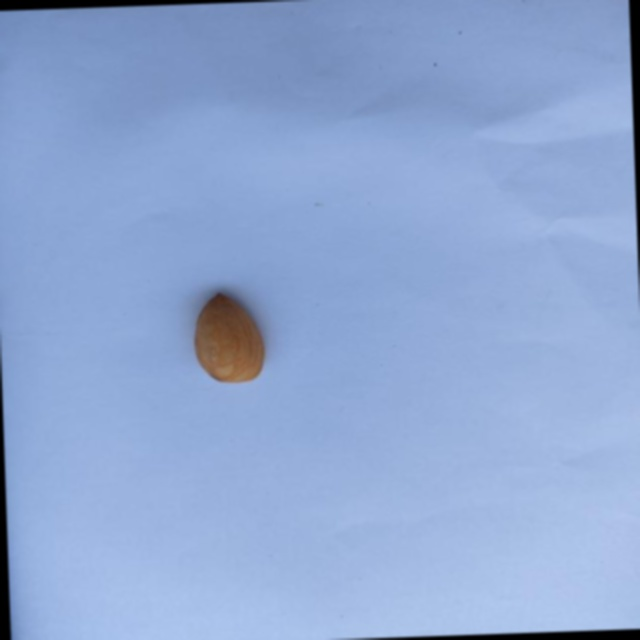grade2: (189, 289, 273, 387)
